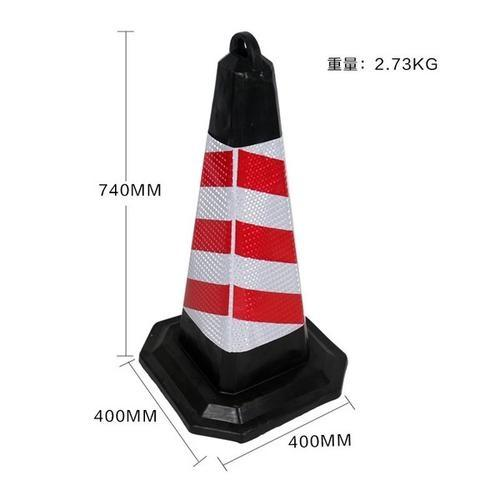cone_barrel: (144, 35, 338, 422)
